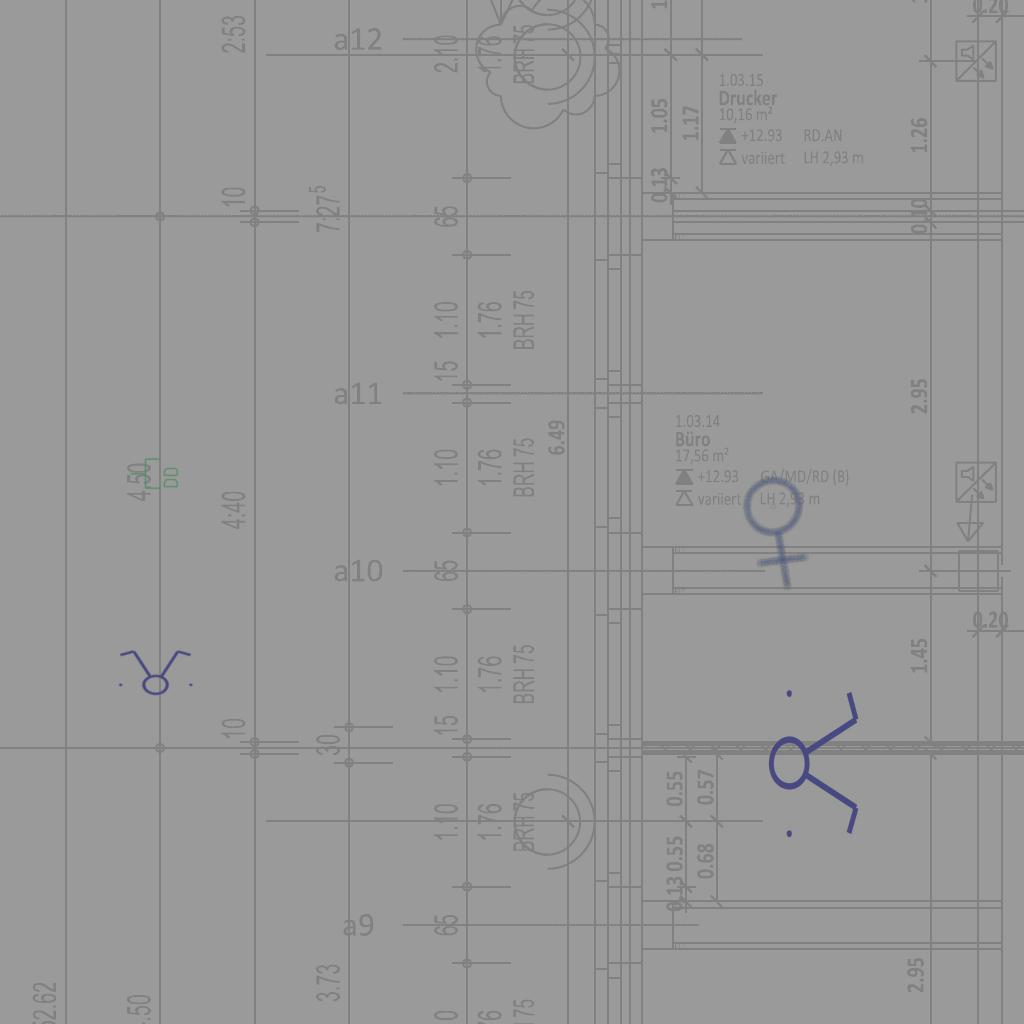Datenanschluss_zweifach: (129, 457, 180, 491)
Elektroanschluss_allgemein_230V_Geraeteanschlussdose_230V: (713, 458, 848, 594)
Serienschalter: (767, 678, 863, 846), (113, 648, 197, 696)
